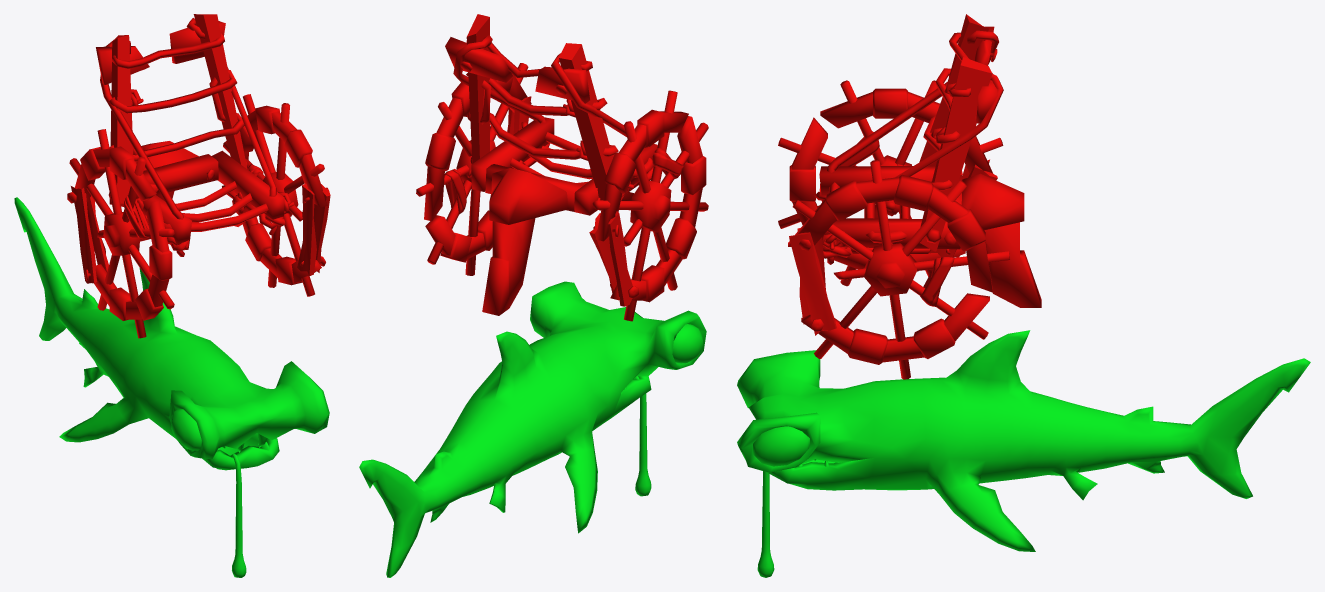
File: SM_Shart_Unwrap.004.fbx
3 renders of one model, left to right at view 1: azimuth 30°, elevation 25°; view 2: azimuth 150°, elevation 25°; view 3: azimuth 270°, elevation 25°, orthographic. The views are drawn at different scales.
Parts seen in each view (by area): view 1: SM_SHART; view 2: SM_SHART; view 3: SM_SHART.
Part boxes in pixels (x1=…): SM_SHART: x1=14, y1=14, x2=330, y2=577; SM_SHART: x1=359, y1=14, x2=708, y2=577; SM_SHART: x1=737, y1=14, x2=1310, y2=577.
Bounding box in the file's own units: 240 × 99.07 × 254.
